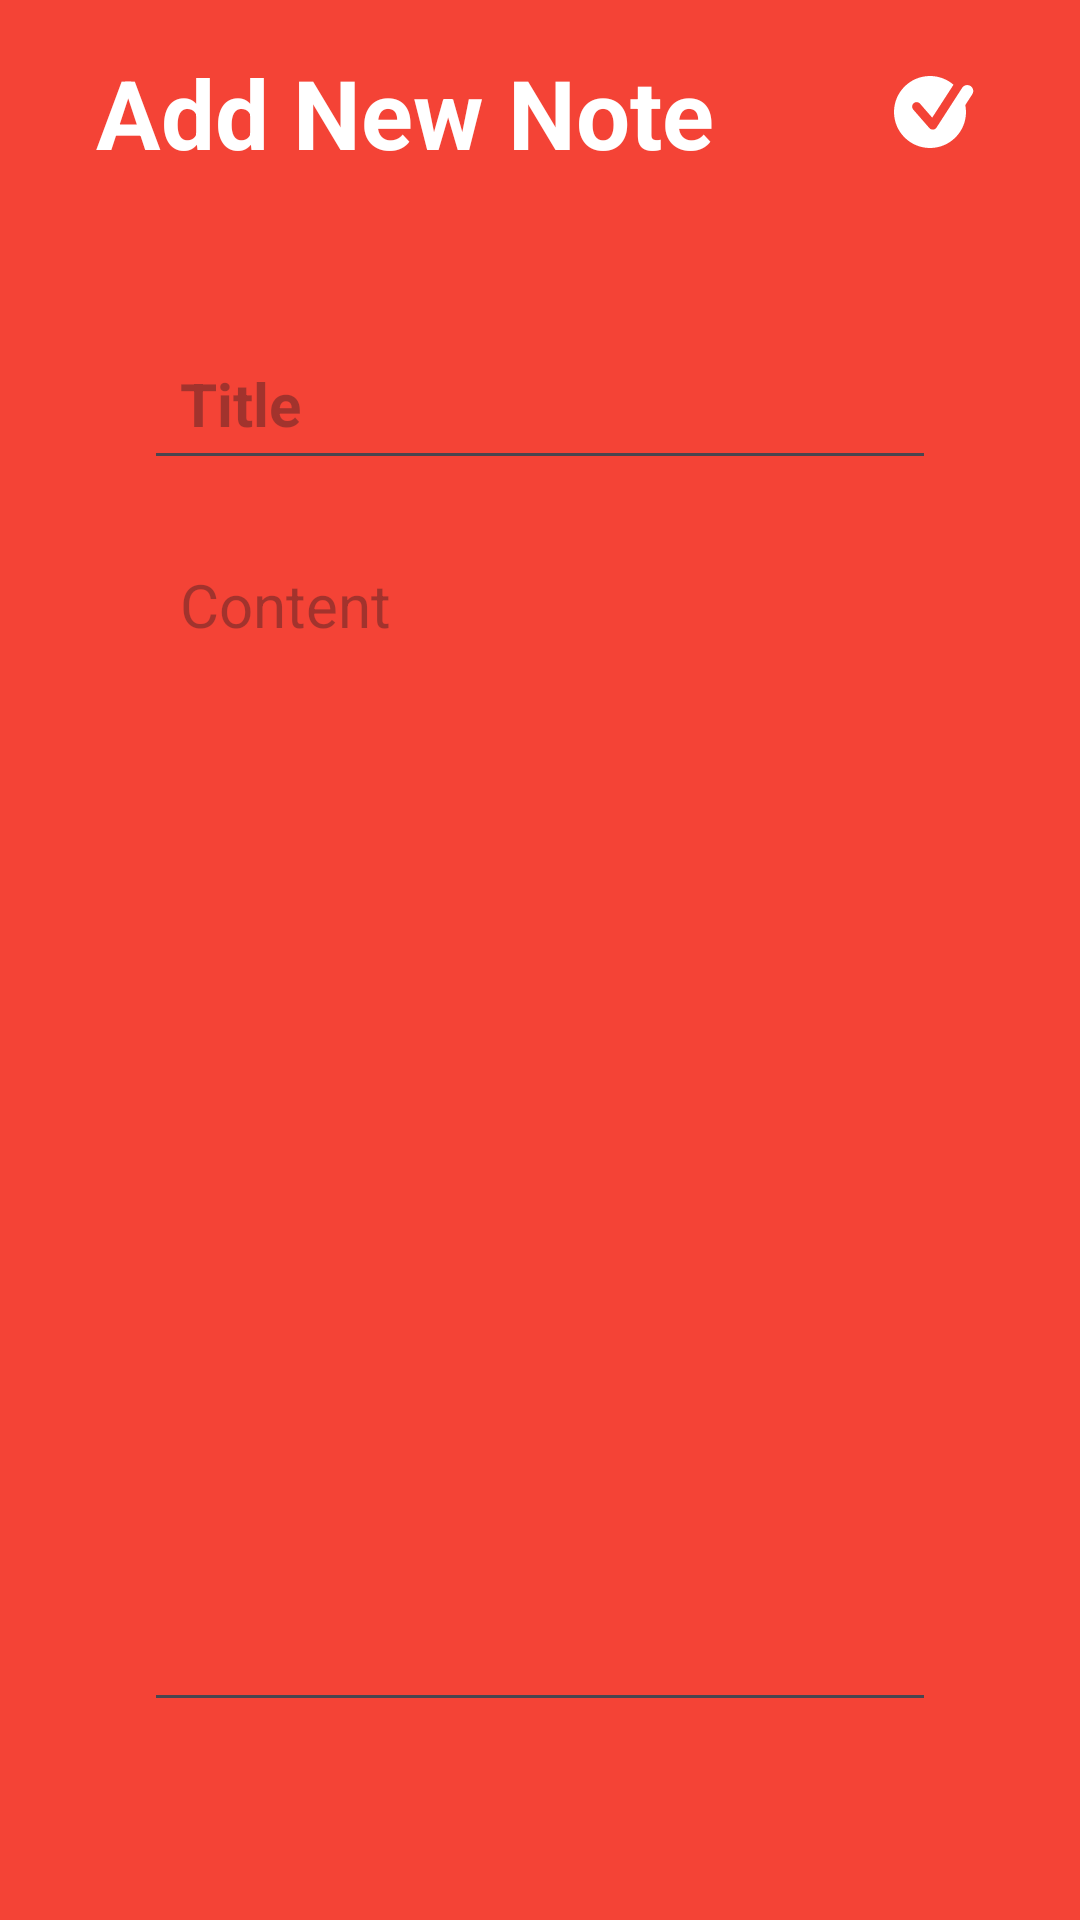

Icon click points for this 1080*1920 phone screenshot, format point (x, y):
done: point (934, 112)
